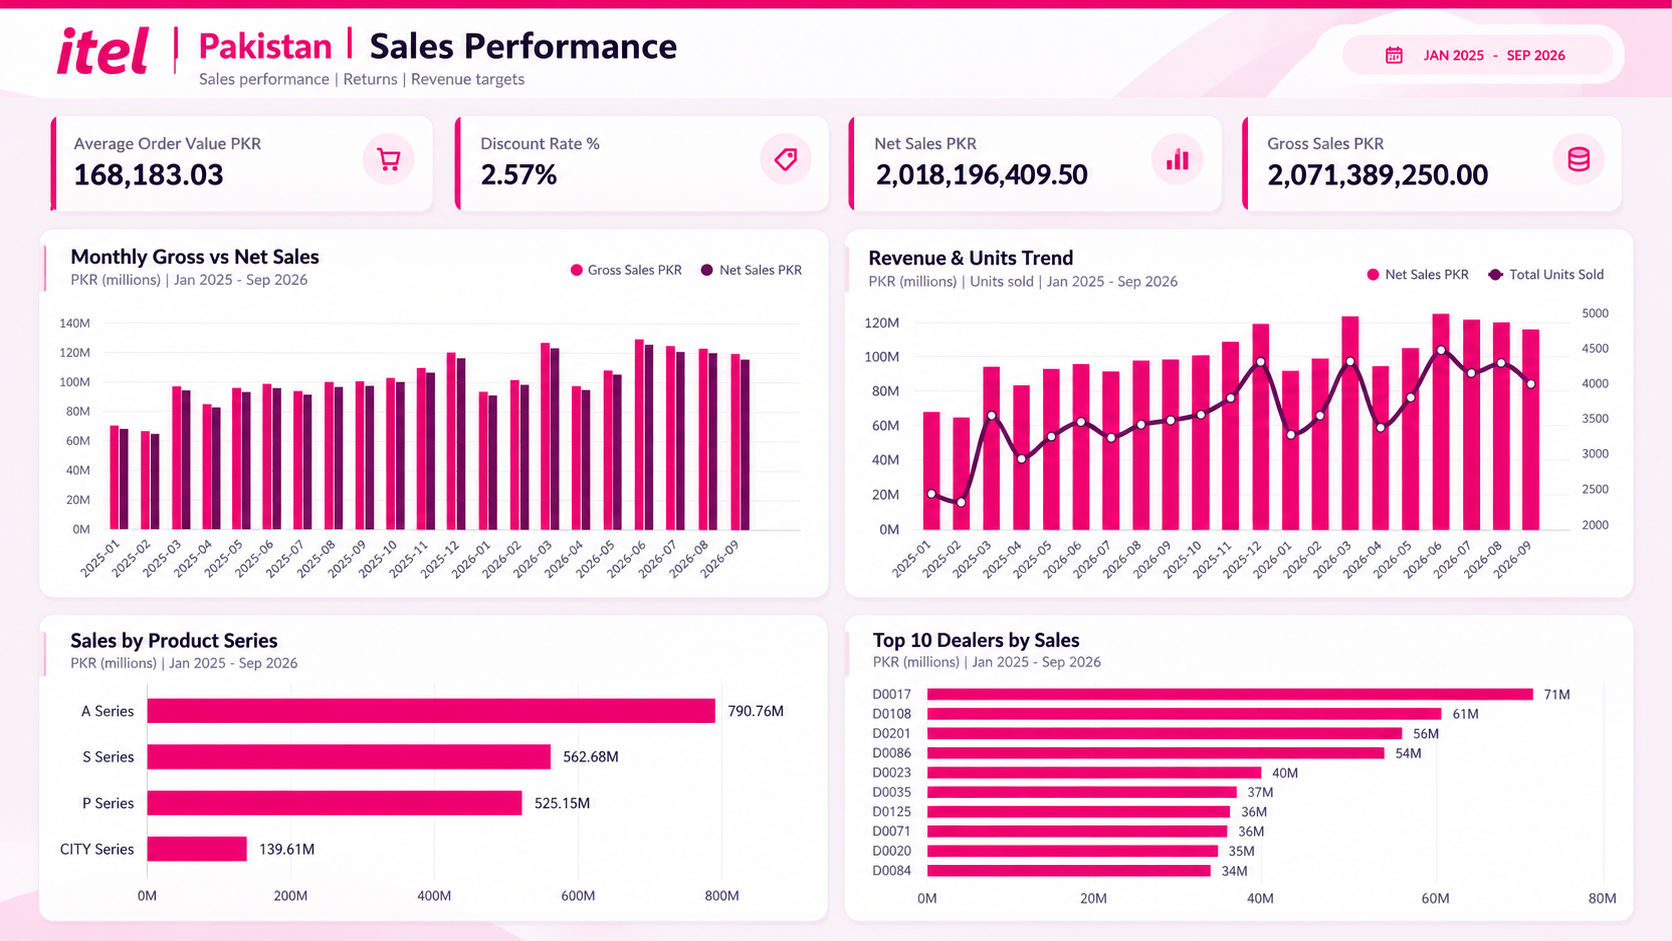

What the dashboard file says about the page in this screenshot:
{"tool":"powerbi","page":{"name":"Sales Performance.","canvas":[2500,2200],"ordinal":1},"visuals":[{"type":"cardVisual","fields":{"Data":["All_Measures.Average Order Value PKR"]},"box":[37.5,82.5,455,147.5],"z":0},{"type":"cardVisual","fields":{"Data":["All_Measures.Discount Rate %"]},"box":[505,82.5,455,147.5],"z":1000},{"type":"cardVisual","fields":{"Data":["All_Measures.Gross Sales PKR"]},"box":[1465,87.5,455,147.5],"z":2000},{"type":"cardVisual","fields":{"Data":["All_Measures.Net Sales PKR"]},"box":[977.5,85,455,147.5],"z":3000},{"type":"clusteredColumnChart","title":"Monthly Gross vs Net Sales","fields":{"Category":["DimDate_Stage.YearMonth"],"Y":["All_Measures.Gross Sales PKR","All_Measures.Net Sales PKR"]},"box":[37.5,257.5,1117.5,607.5],"z":4000},{"type":"lineClusteredColumnComboChart","title":"Revenue & Units Trend","fields":{"Category":["DimDate_Stage.YearMonth"],"Y":["All_Measures.Net Sales PKR"],"Y2":["All_Measures.Total Units Sold"]},"box":[1170.7,258.5,1117.1,607.3],"z":5000},{"type":"clusteredBarChart","title":"Sales by Product Series","fields":{"Category":["DimProducts_Stage.Series"],"Y":["All_Measures.Net Sales PKR"]},"box":[36.6,887.8,1117.1,604.9],"z":6000},{"type":"clusteredBarChart","title":"Top 10 Dealers by Sales","fields":{"Category":["DimDealers_Stage.DealerID"],"Y":["All_Measures.Net Sales PKR"]},"box":[1187.8,887.8,1100,604.9],"z":7000}]}

Visuals, with their boxes on the page's 2500x2200 design canvas (x1, y1, x2, y2). These are canvas units, not pixel positions in the 1672x941 screenshot, which may show the page scaled, cropped or inside an application window:
cardVisual - All_Measures.Average Order Value PKR: 38/82/492/230
cardVisual - All_Measures.Discount Rate %: 505/82/960/230
cardVisual - All_Measures.Gross Sales PKR: 1465/88/1920/235
cardVisual - All_Measures.Net Sales PKR: 978/85/1432/232
"Monthly Gross vs Net Sales" clusteredColumnChart: 38/258/1155/865
"Revenue & Units Trend" lineClusteredColumnComboChart: 1171/258/2288/866
"Sales by Product Series" clusteredBarChart: 37/888/1154/1493
"Top 10 Dealers by Sales" clusteredBarChart: 1188/888/2288/1493
